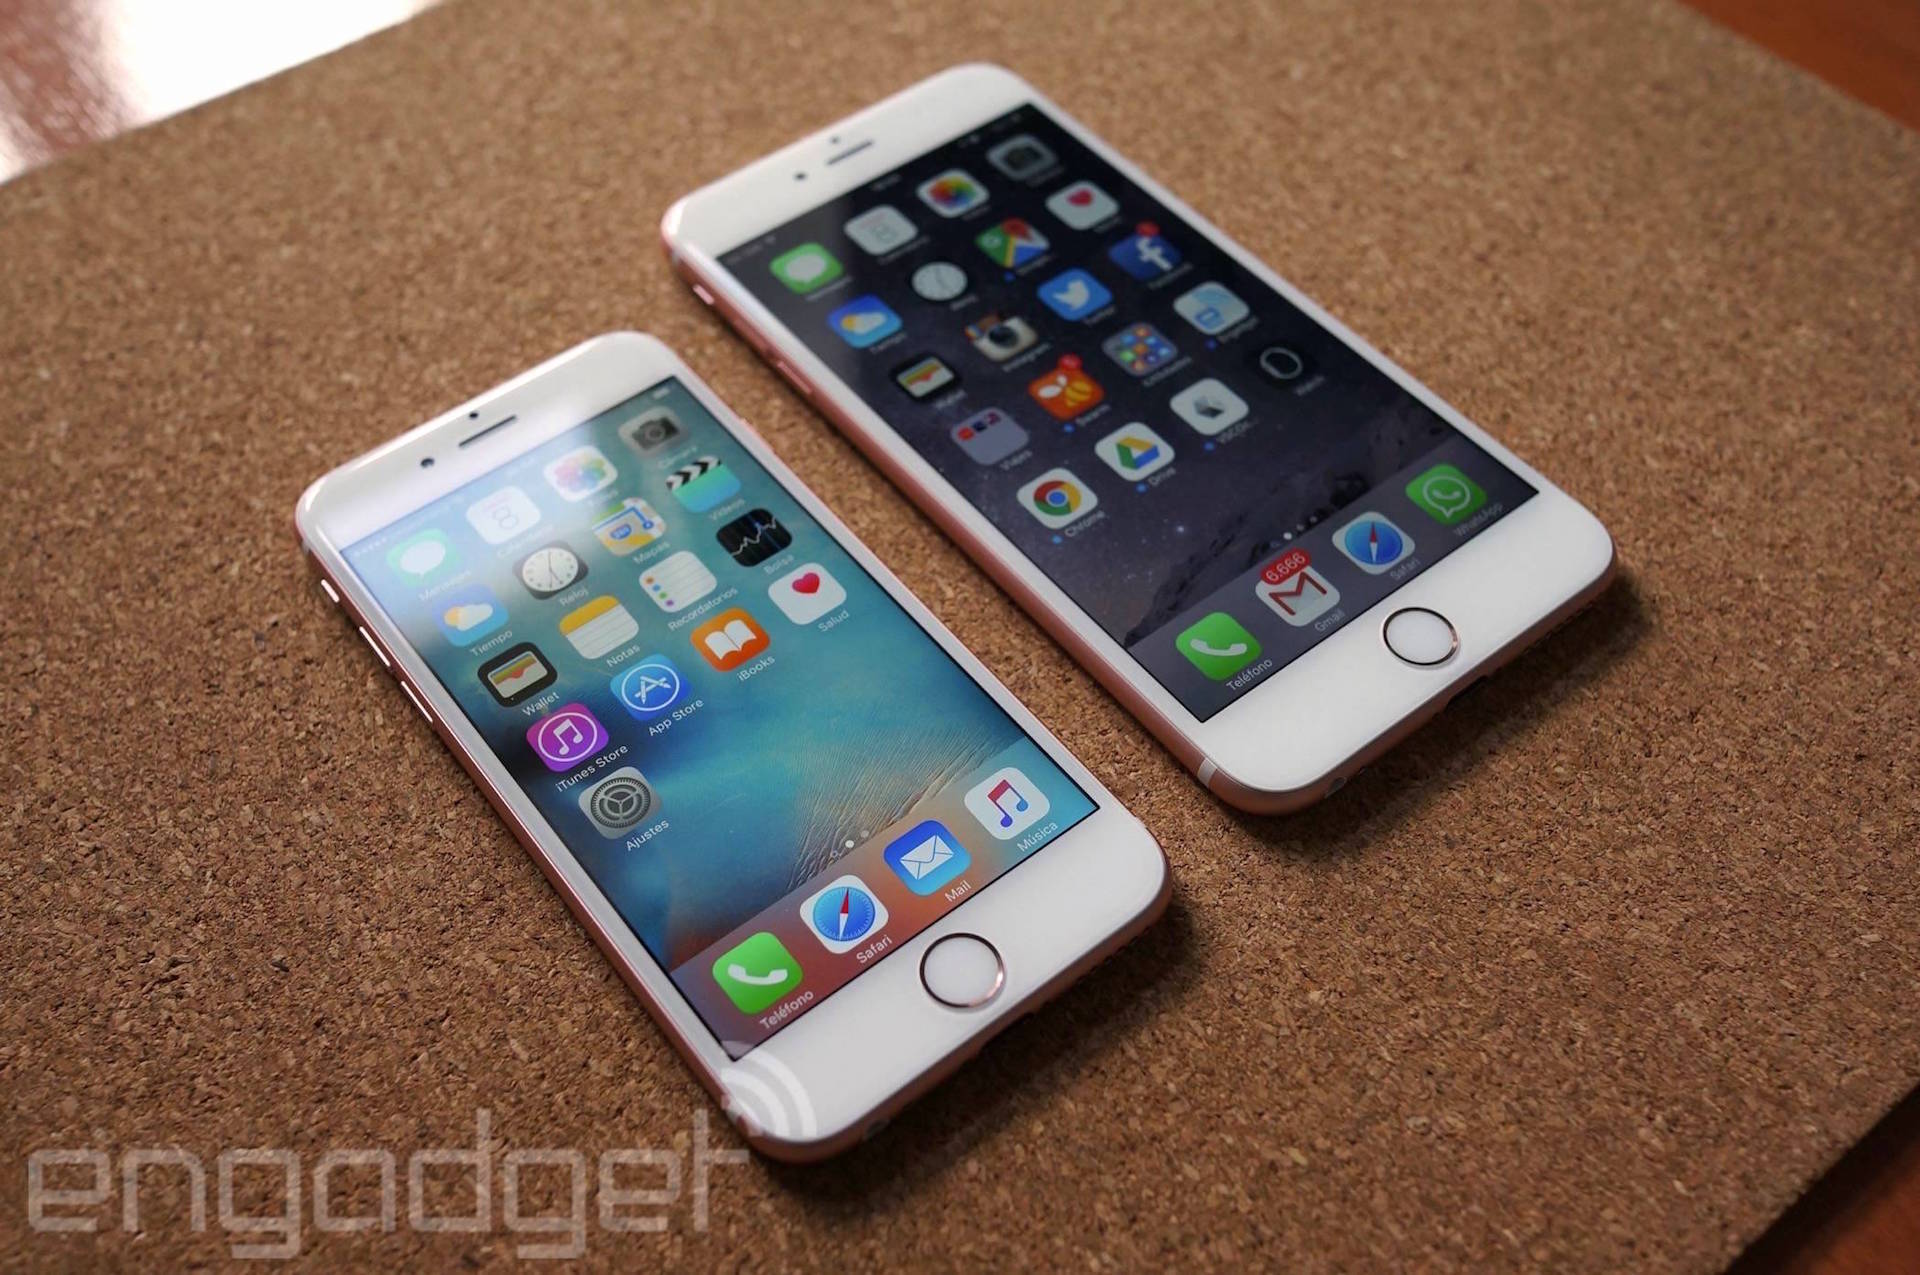smartphone: (292, 324, 1178, 1173), (656, 55, 1628, 822)
